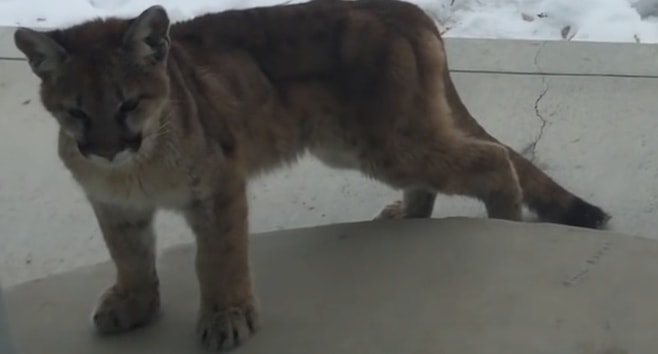Mountain Lion: (2, 2, 631, 342)
